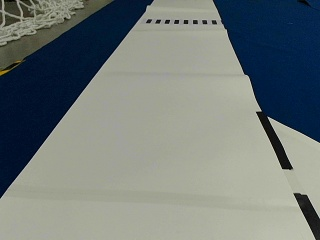crosswalk: (146, 18, 216, 24)
